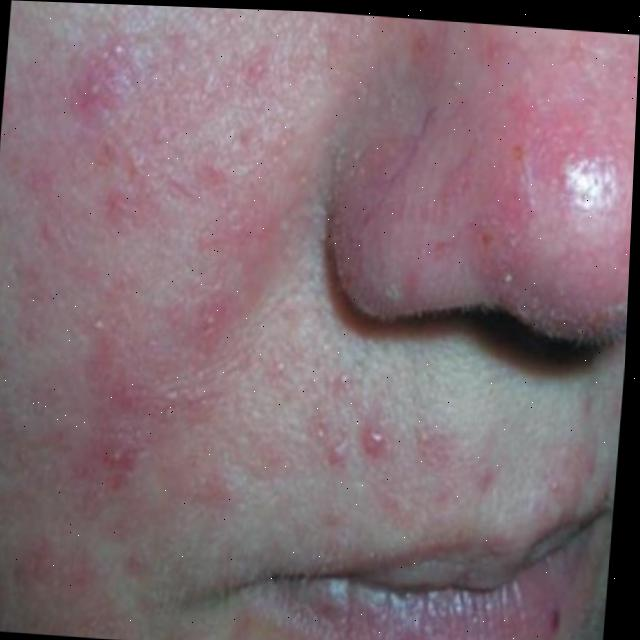Rosacea: (37, 23, 288, 502), (384, 17, 640, 272), (339, 406, 442, 467)
